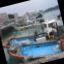fishing boat: (0, 15, 64, 52), (5, 30, 64, 64), (10, 14, 46, 32)
